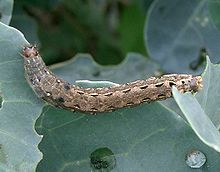Armyworm: (19, 41, 204, 118)
